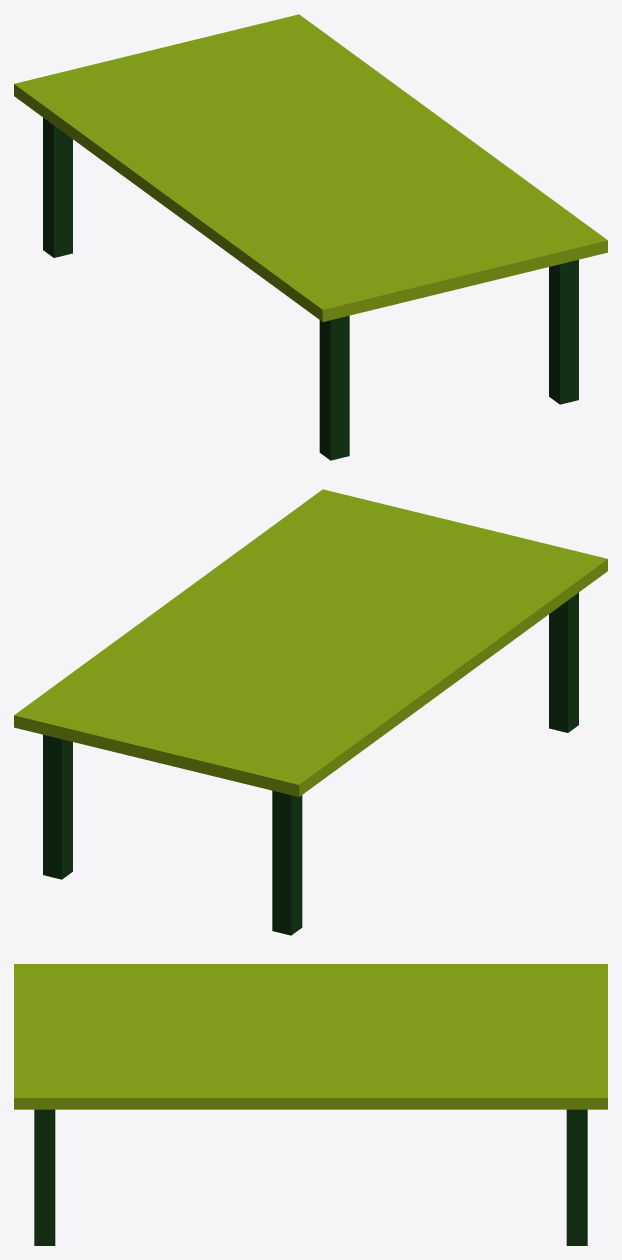
File: table-large.obj
3 views of the same model, one above another, from view 1: azimuth 30°, elevation 25°; view 2: azimuth 150°, elevation 25°; view 3: azimuth 270°, elevation 25° (orthographic). The views are drawn at different scales.
Visible parts, largest first — view 1: Cube; view 2: Cube; view 3: Cube.
Boxes of the visible parts, box(x1,y1,x2,y2) form: Cube: box(14, 14, 607, 460); Cube: box(14, 489, 607, 935); Cube: box(14, 964, 607, 1245).
Bounding box in the file's own units: 0.5573 × 0.3043 × 1.05.
